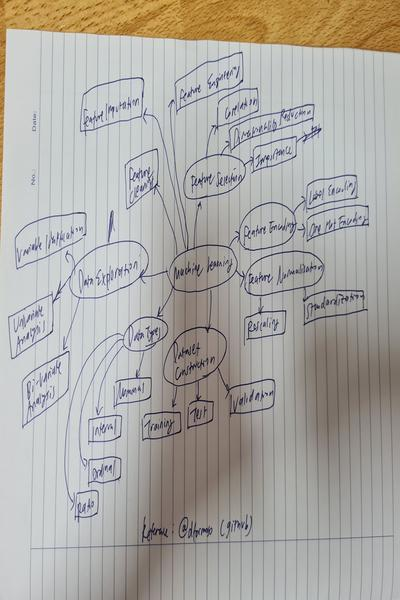arrow: (64, 333, 119, 498), (77, 340, 123, 464), (143, 108, 182, 248), (169, 96, 189, 246), (96, 343, 126, 417), (151, 187, 177, 259), (64, 295, 83, 355), (53, 274, 75, 305), (191, 199, 202, 245), (157, 290, 172, 319), (62, 246, 80, 269), (206, 122, 218, 156), (205, 289, 215, 328), (141, 269, 167, 284), (293, 195, 309, 216), (217, 369, 229, 390), (171, 382, 179, 409), (254, 295, 265, 311), (136, 352, 143, 377), (236, 273, 248, 287), (220, 139, 230, 155), (231, 232, 240, 247), (245, 155, 254, 169), (196, 379, 202, 398), (295, 225, 306, 234), (300, 287, 305, 299)
idea: (174, 52, 245, 107), (15, 212, 86, 265), (78, 77, 145, 133), (226, 106, 320, 145), (22, 352, 69, 427), (8, 294, 53, 359), (307, 206, 368, 241), (303, 290, 367, 323), (123, 149, 157, 206), (226, 379, 277, 415), (308, 175, 359, 207), (254, 137, 298, 169), (218, 89, 258, 124), (243, 310, 286, 339), (140, 412, 182, 440), (113, 377, 154, 403), (86, 457, 123, 482), (87, 415, 121, 442), (186, 398, 215, 428), (74, 490, 99, 517)
topic: (70, 242, 148, 298), (242, 249, 323, 295), (164, 328, 226, 385), (168, 245, 237, 289), (185, 155, 245, 198), (241, 203, 295, 250), (123, 318, 168, 350)
